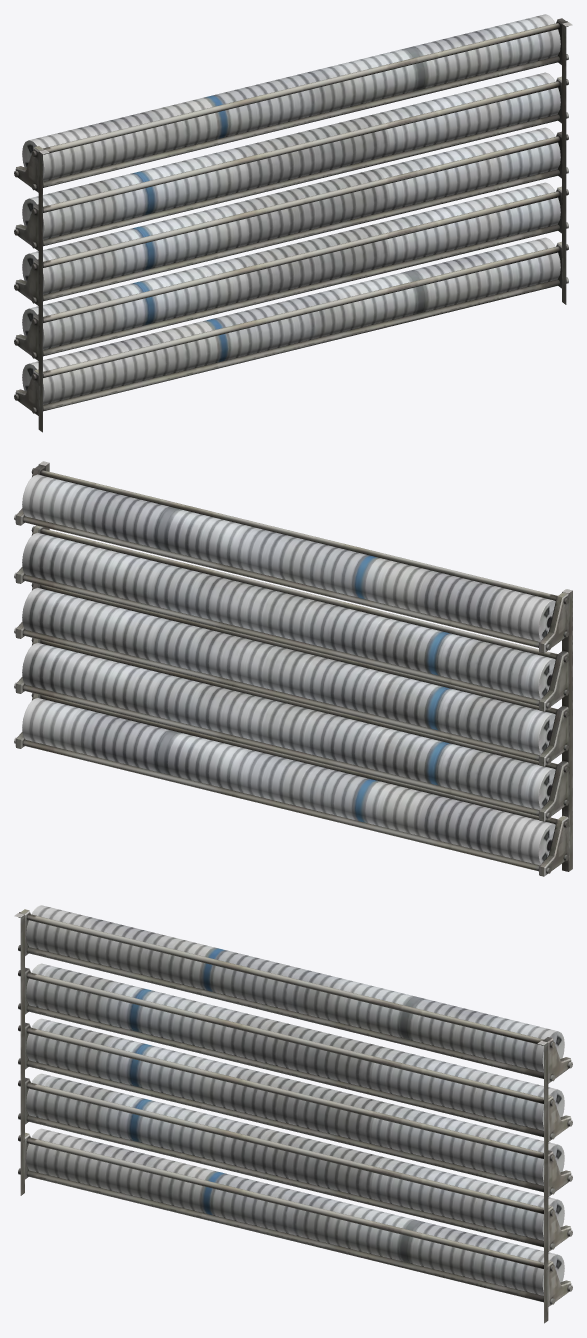
The picture shows the model from 3 angles, top to bottom: view 1: azimuth 30°, elevation 25°; view 2: azimuth 150°, elevation 25°; view 3: azimuth 330°, elevation 25°; orthographic projection.
Visible parts, largest first — view 1: body0_model0_lod0_mesh0; view 2: body0_model0_lod0_mesh0; view 3: body0_model0_lod0_mesh0.
Boxes of the visible parts, bbox=[...] form: body0_model0_lod0_mesh0: bbox=[14, 14, 572, 432]; body0_model0_lod0_mesh0: bbox=[14, 461, 572, 876]; body0_model0_lod0_mesh0: bbox=[14, 905, 572, 1323].
Bounding box in the file's own units: 257 × 128 × 23.28.
Materials: 1 (1 with a texture image).
